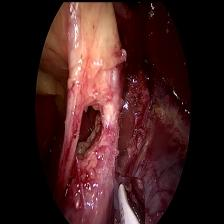Hook: (113, 176, 144, 224)
